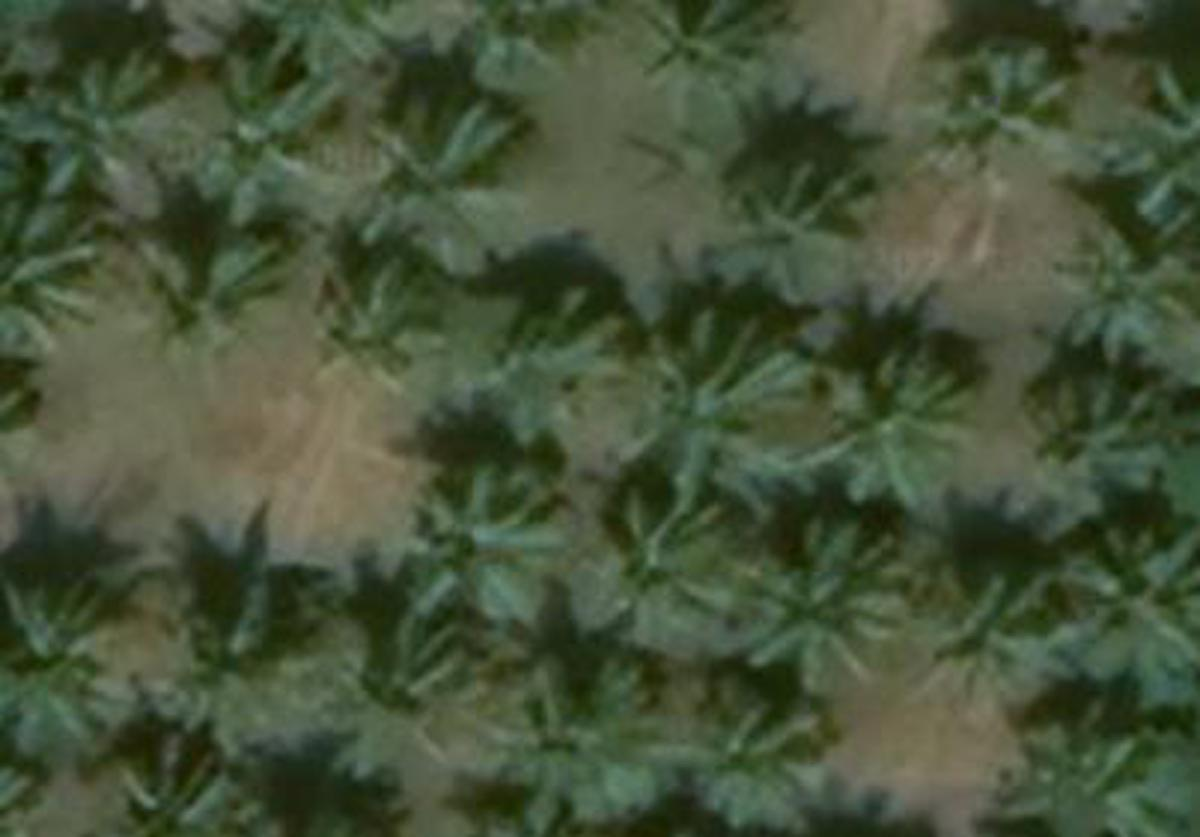coconut: (616, 309, 818, 512), (818, 339, 988, 515), (410, 461, 583, 628), (503, 652, 664, 831), (1015, 375, 1200, 530), (747, 524, 914, 688), (336, 628, 503, 786), (363, 98, 535, 247), (193, 59, 351, 220), (20, 44, 181, 199), (979, 717, 1191, 834), (598, 494, 753, 649), (128, 220, 303, 357), (717, 157, 884, 297), (1045, 223, 1194, 363), (482, 285, 631, 425), (1051, 545, 1200, 685), (2, 586, 128, 750), (690, 699, 845, 831), (934, 41, 1077, 169), (181, 592, 324, 720), (107, 723, 267, 837), (2, 190, 110, 357), (1095, 65, 1200, 235), (920, 565, 1051, 699), (318, 259, 458, 384), (634, 2, 806, 86), (241, 2, 401, 71), (470, 5, 610, 71)
